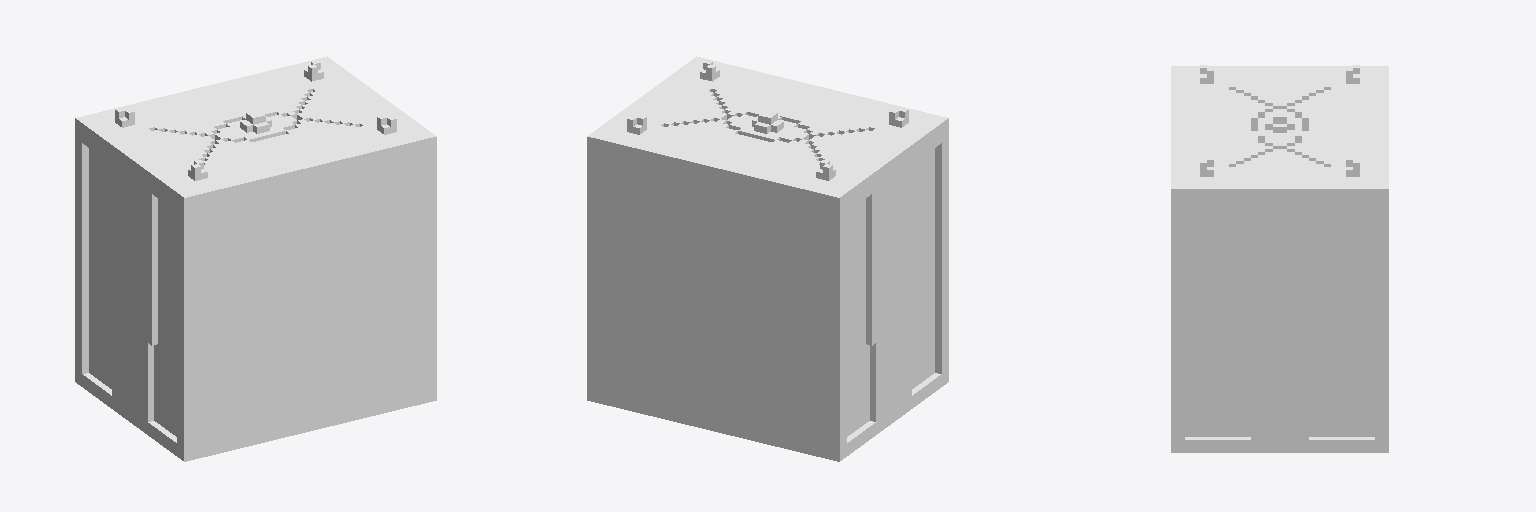
Rendered from Mandala.obj.
3 renders of one model, left to right at view 1: azimuth 30°, elevation 25°; view 2: azimuth 150°, elevation 25°; view 3: azimuth 270°, elevation 25°, orthographic.
Visible parts, largest first — view 1: Mandala; view 2: Mandala; view 3: Mandala.
Boxes of the visible parts, x1,y1,x2,y2 form: Mandala: [75, 56, 436, 461]; Mandala: [587, 56, 948, 461]; Mandala: [1171, 65, 1388, 452].
Size of the model in its own units: 40 by 43 by 30.